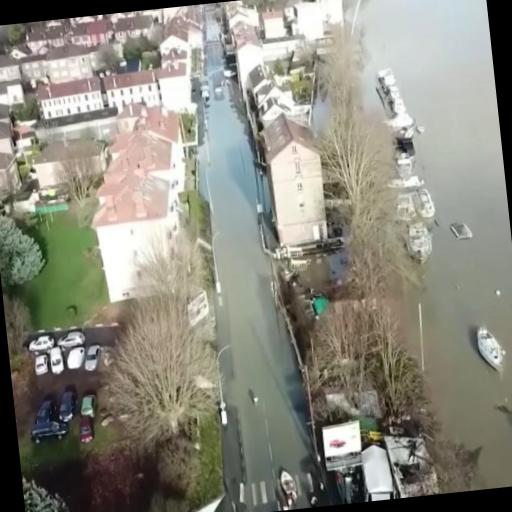flood: (355, 0, 512, 490), (198, 97, 312, 512)
house: (262, 128, 328, 250), (89, 164, 184, 230), (36, 65, 104, 128), (30, 134, 106, 184), (108, 132, 176, 176), (103, 66, 158, 110), (360, 440, 398, 502), (158, 60, 202, 104), (294, 0, 332, 45), (74, 16, 113, 54), (134, 108, 182, 138), (156, 18, 194, 52), (225, 4, 261, 37), (24, 25, 66, 53), (236, 38, 269, 73), (116, 14, 156, 41), (260, 4, 289, 41), (245, 63, 275, 95), (0, 99, 17, 151), (0, 78, 26, 108), (259, 92, 286, 120), (0, 50, 20, 84)
